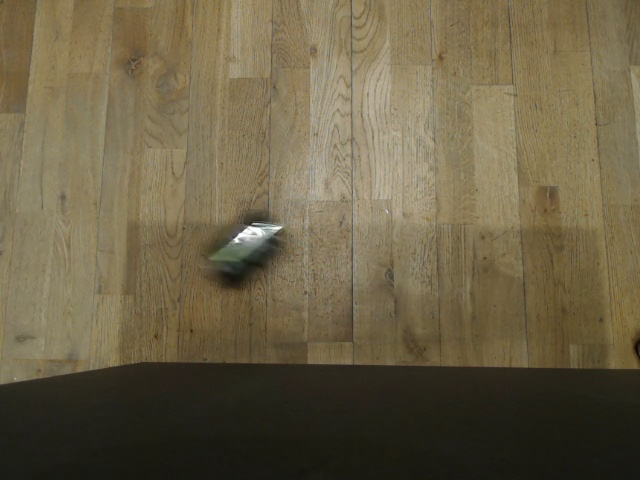beer: (203, 209, 288, 296)
